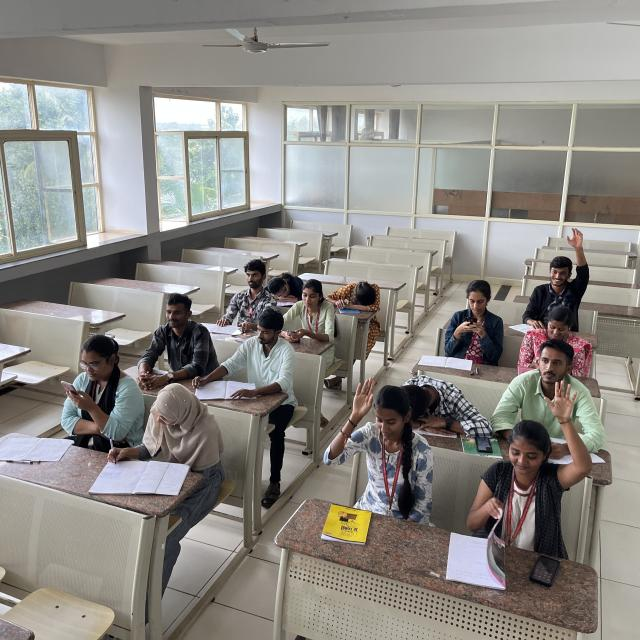Hand Rising: (502, 379, 589, 543), (322, 375, 428, 506), (527, 228, 586, 316)
Sleeping: (398, 372, 492, 436), (323, 278, 386, 310), (265, 268, 314, 303)
Using Phone: (59, 327, 130, 445), (446, 280, 505, 356), (284, 281, 338, 346)
Writing: (104, 382, 213, 486), (191, 310, 282, 401)
